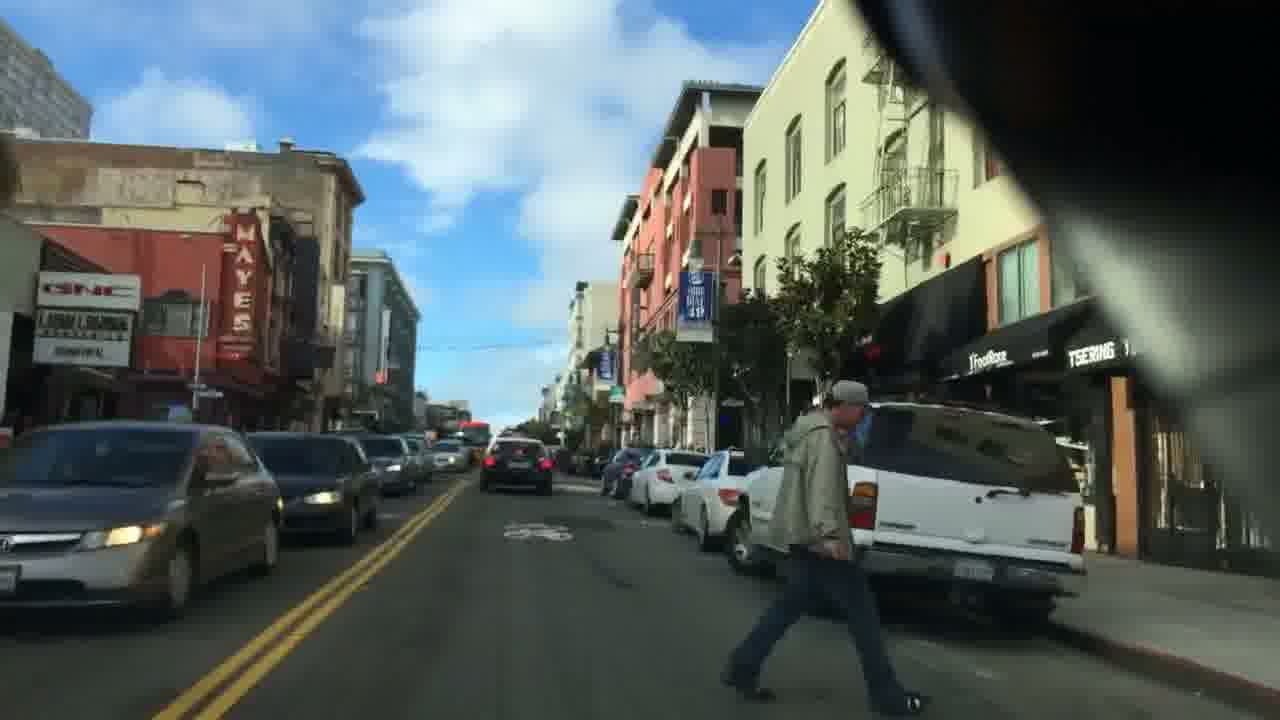car: (721, 396, 1087, 633), (0, 416, 287, 624), (242, 429, 382, 542), (671, 444, 745, 550), (623, 447, 705, 515), (479, 435, 552, 495), (428, 438, 471, 473)
pedestrian: (717, 376, 935, 720)
